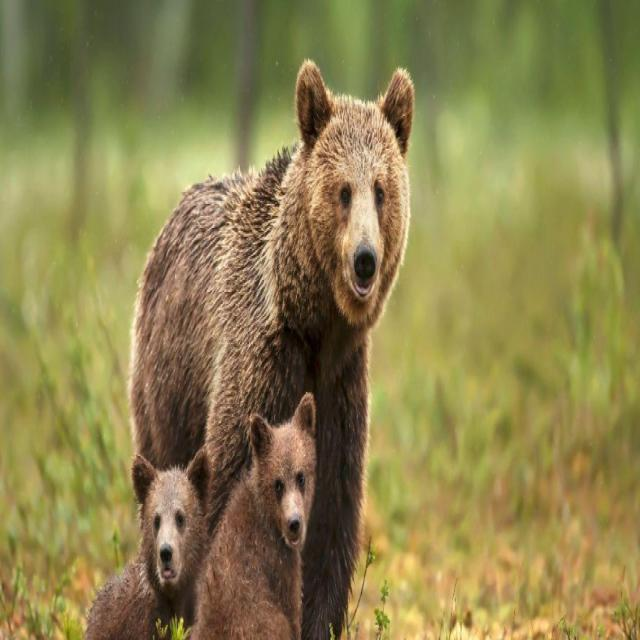Bear: (128, 61, 415, 640), (199, 421, 312, 640), (84, 455, 206, 640)
